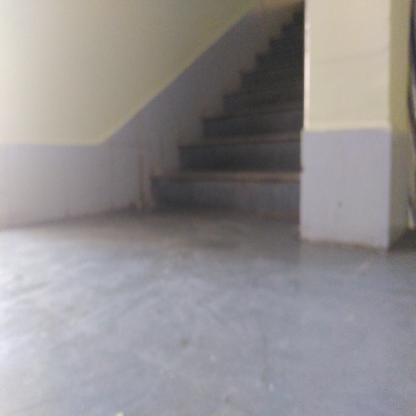stairs: (241, 69, 299, 223)
